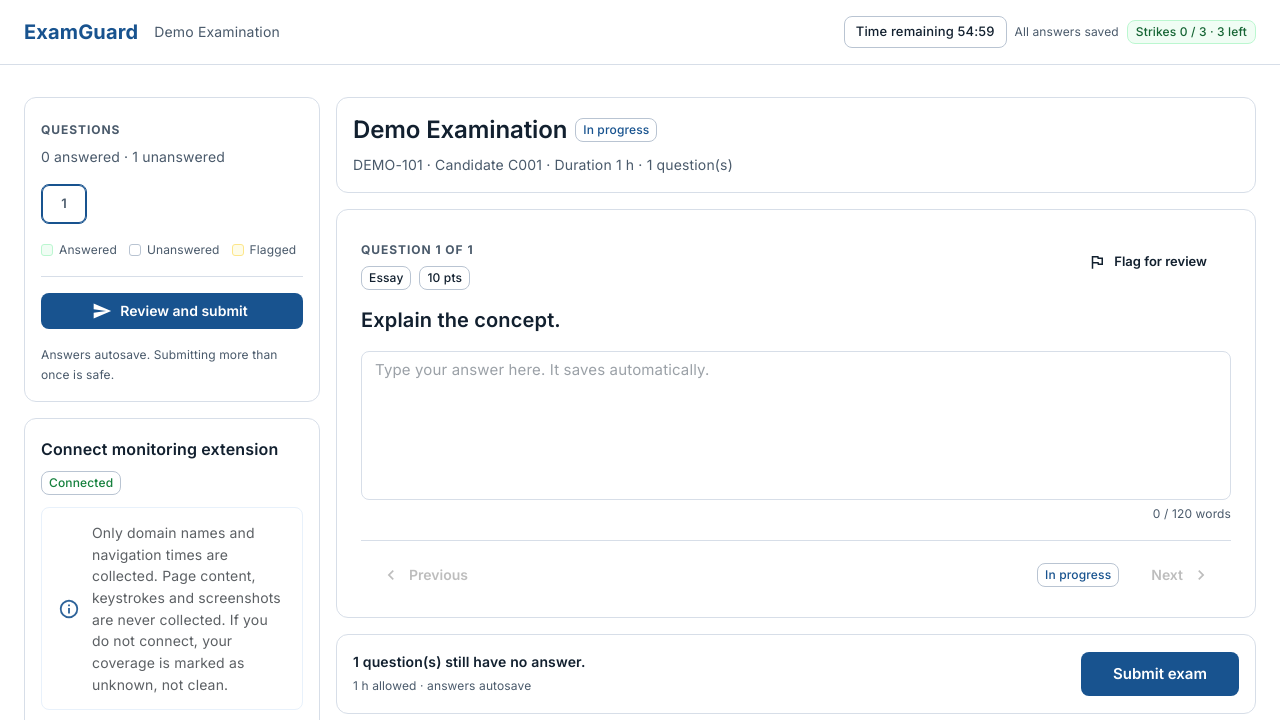
Test case: AttemptEditor integrity monitoring › does not submit while an answer is still unsaved
Type "This answer never reaches the server." into the text box named "Answer for question 1". click: (796, 425)
box: top-left (375, 359), bottom-right (1217, 491)
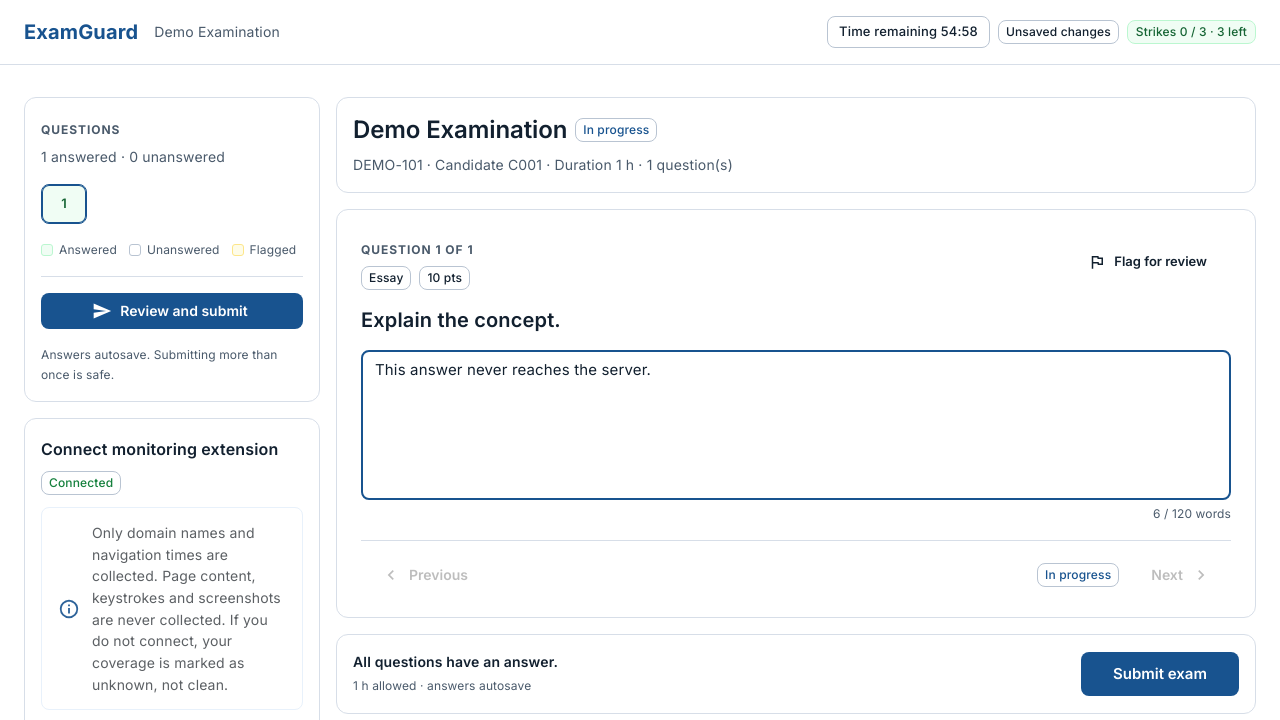
Click the button "Submit exam". click: (1160, 674)
box: top-left (1081, 652), bottom-right (1239, 696)
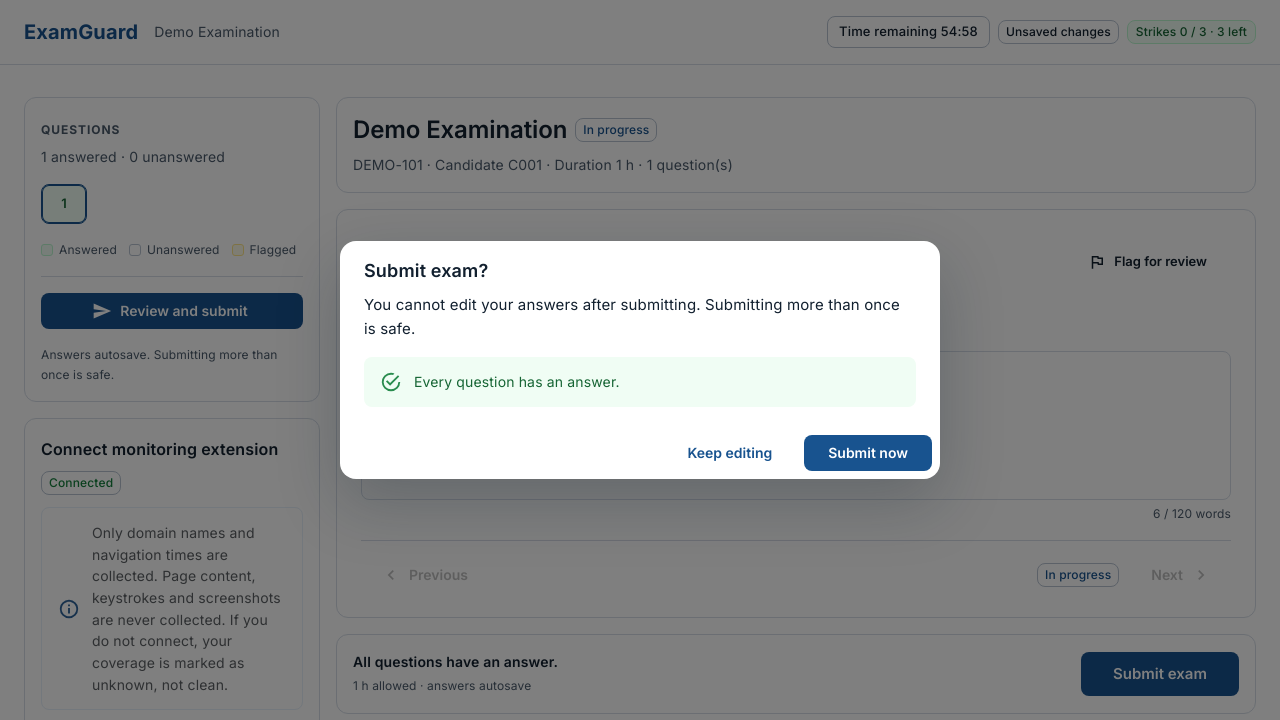
Click the button "Submit now". click: (868, 453)
box: top-left (804, 435), bottom-right (932, 472)
(page scrolled)
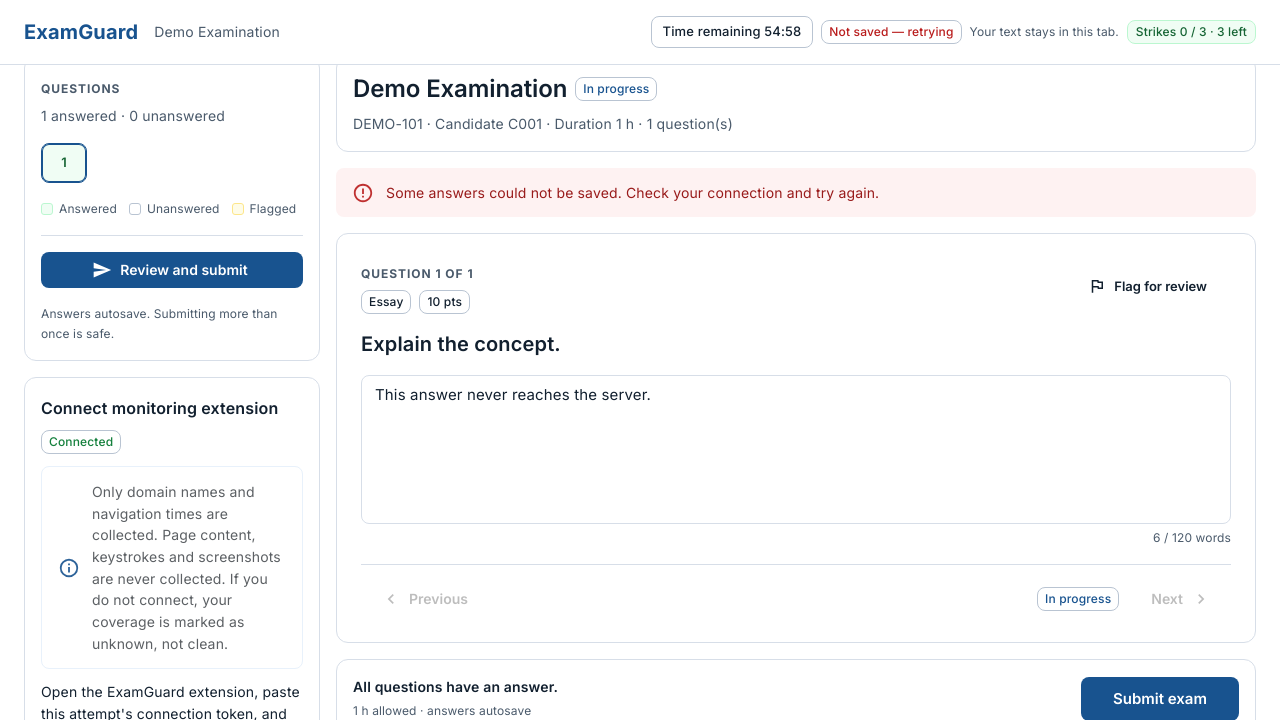
Expected: the button "Submit exam" is shown, top-left (1081, 677), bottom-right (1239, 719)
Result: the text "Some answers could not be saved" is shown at top-left (386, 184), bottom-right (879, 201)
